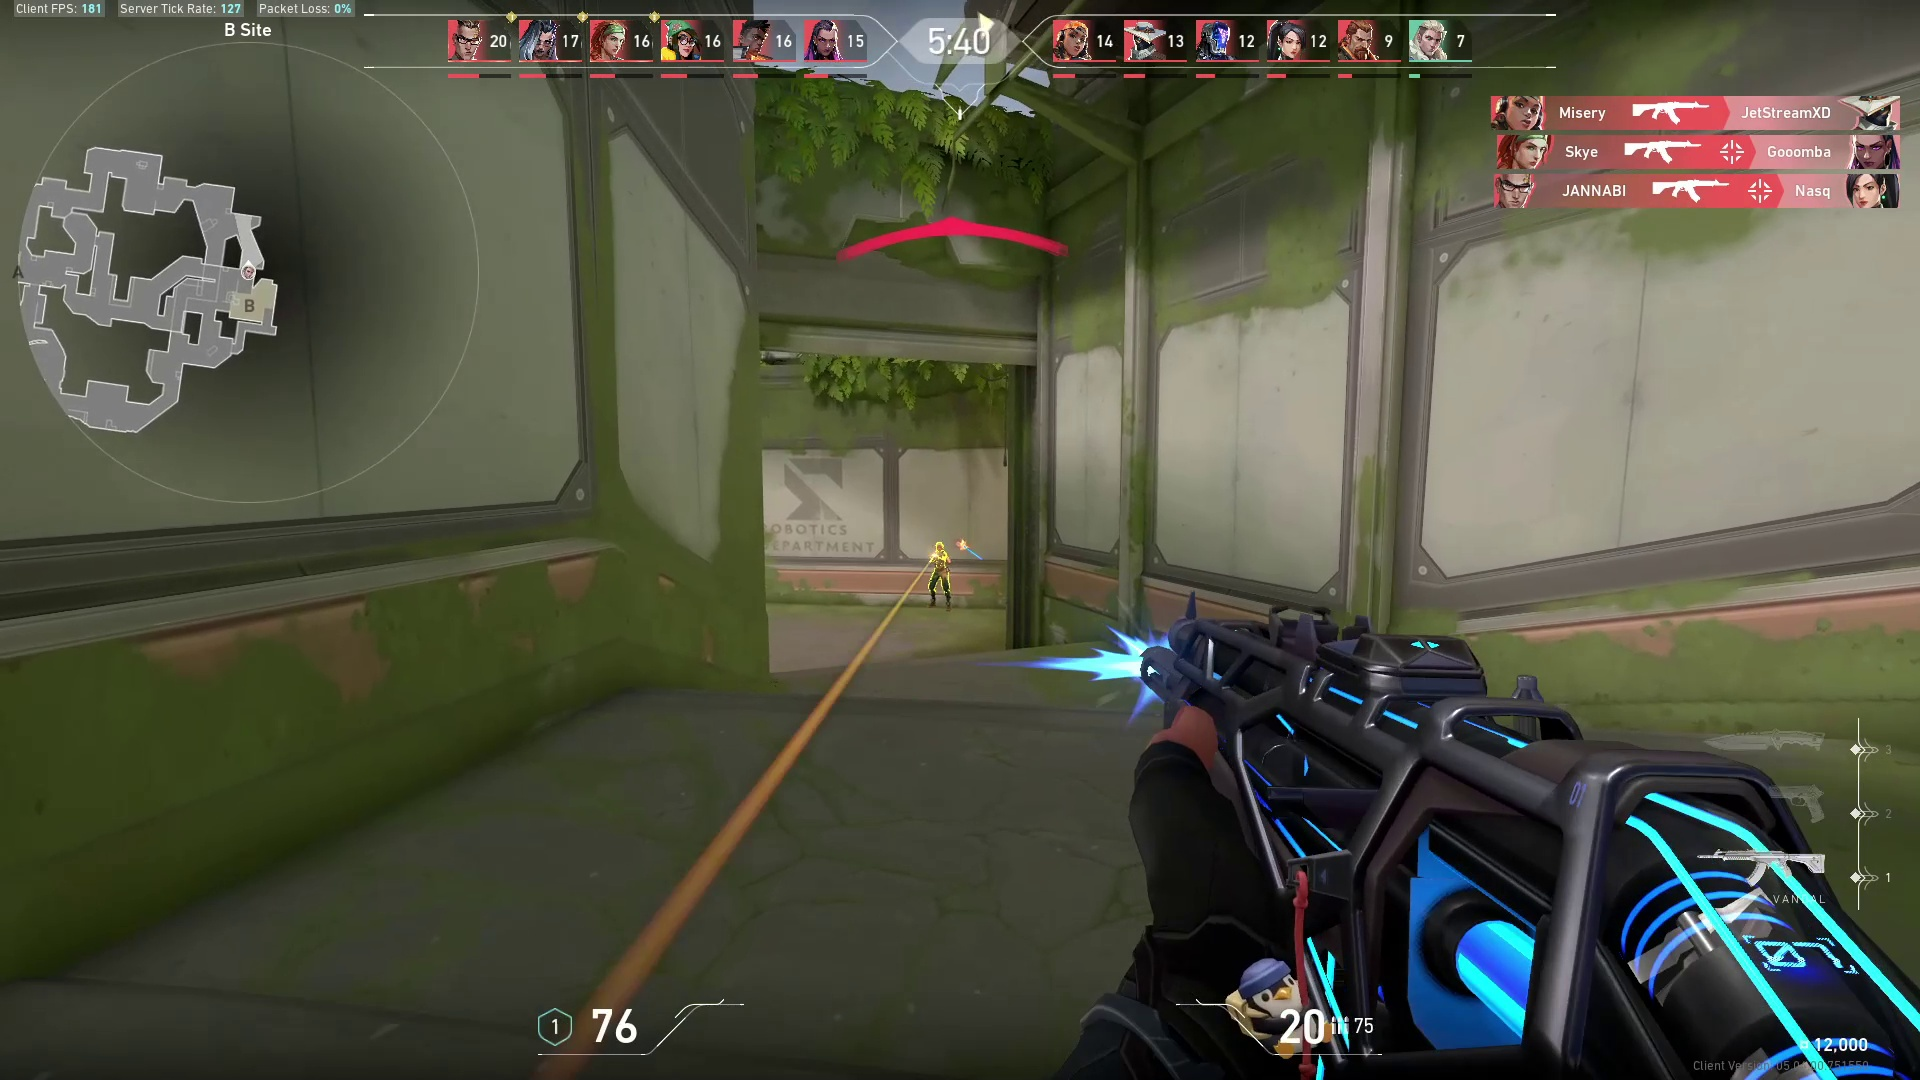enemy_body: (928, 553, 955, 613)
enemy_head: (934, 541, 945, 553)
